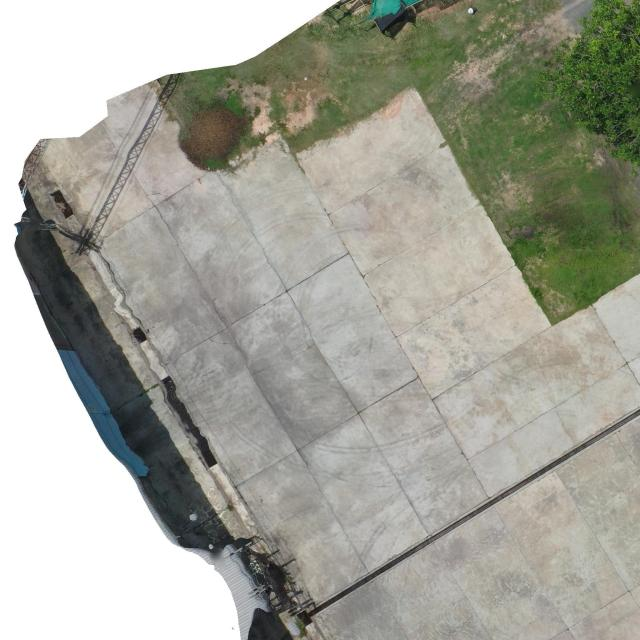Tree: (537, 0, 640, 168)
